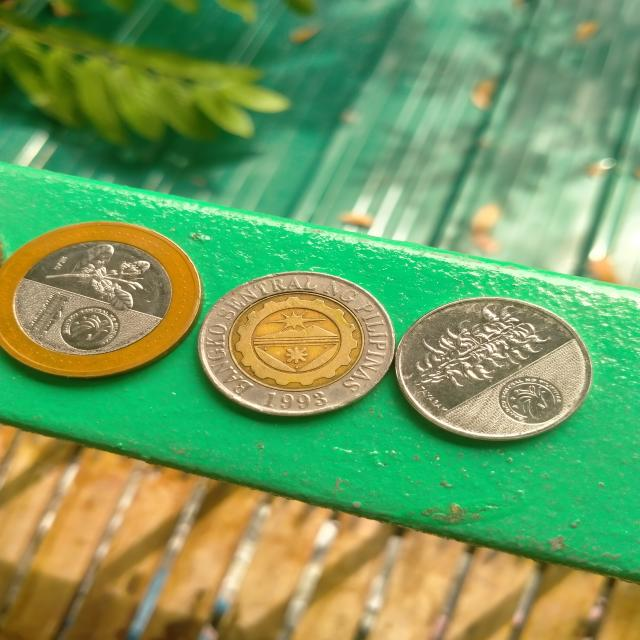10_Old_Back: (201, 272, 395, 416)
20_New_Back: (39, 236, 157, 312)
5_New_Back: (407, 302, 554, 391)
